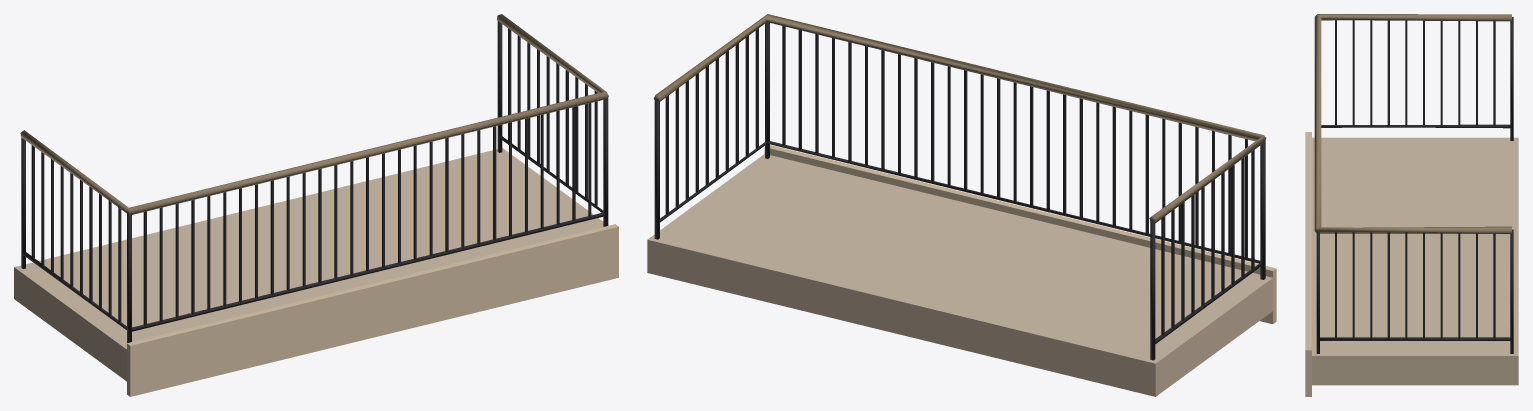
Rendered from city_balcony_res_4.glb.
3 views of the same model, side by side, from view 1: azimuth 30°, elevation 25°; view 2: azimuth 150°, elevation 25°; view 3: azimuth 270°, elevation 25° (orthographic). The views are drawn at different scales.
Visible parts, largest first — view 1: CityBalconyRes4_Slab, CityBalconyRes4_Fascia, CityBalconyRes4_Handrail, CityBalconyRes4_MidRail, CityBalconyRes4_Post2, CityBalconyRes4_Post3, CityBalconyRes4_Post1, CityBalconyRes4_Post0; view 2: CityBalconyRes4_Slab, CityBalconyRes4_Handrail, CityBalconyRes4_Fascia, CityBalconyRes4_MidRail, CityBalconyRes4_Post3, CityBalconyRes4_Post0, CityBalconyRes4_Post1, CityBalconyRes4_Post2; view 3: CityBalconyRes4_Slab, CityBalconyRes4_Handrail, CityBalconyRes4_Fascia, CityBalconyRes4_MidRail, CityBalconyRes4_Post2, CityBalconyRes4_Post3, CityBalconyRes4_Post0, CityBalconyRes4_Bal2_2, CityBalconyRes4_Bal2_3, CityBalconyRes4_Bal2_4, CityBalconyRes4_Bal0_8, CityBalconyRes4_Bal0_9 (+15 smaller).
Boxes of the visible parts, x1=… form: CityBalconyRes4_Slab: x1=14, y1=148, x2=603, y2=381; CityBalconyRes4_Fascia: x1=127, y1=224, x2=618, y2=396; CityBalconyRes4_Handrail: x1=20, y1=14, x2=608, y2=214; CityBalconyRes4_MidRail: x1=23, y1=135, x2=606, y2=331; CityBalconyRes4_Post2: x1=603, y1=98, x2=608, y2=226; CityBalconyRes4_Post3: x1=497, y1=21, x2=502, y2=152; CityBalconyRes4_Post1: x1=127, y1=211, x2=131, y2=342; CityBalconyRes4_Post0: x1=21, y1=138, x2=25, y2=268; CityBalconyRes4_Slab: x1=647, y1=154, x2=1272, y2=396; CityBalconyRes4_Handrail: x1=653, y1=14, x2=1266, y2=223; CityBalconyRes4_Fascia: x1=764, y1=145, x2=1276, y2=324; CityBalconyRes4_MidRail: x1=659, y1=141, x2=1262, y2=343; CityBalconyRes4_Post3: x1=654, y1=98, x2=659, y2=239; CityBalconyRes4_Post0: x1=1150, y1=219, x2=1155, y2=360; CityBalconyRes4_Post1: x1=1260, y1=139, x2=1265, y2=279; CityBalconyRes4_Post2: x1=765, y1=22, x2=769, y2=158; CityBalconyRes4_Slab: x1=1312, y1=137, x2=1518, y2=385; CityBalconyRes4_Handrail: x1=1314, y1=14, x2=1511, y2=233; CityBalconyRes4_Fascia: x1=1305, y1=132, x2=1311, y2=396; CityBalconyRes4_MidRail: x1=1320, y1=124, x2=1511, y2=340; CityBalconyRes4_Post2: x1=1316, y1=231, x2=1319, y2=353; CityBalconyRes4_Post3: x1=1510, y1=229, x2=1513, y2=353; CityBalconyRes4_Post0: x1=1510, y1=17, x2=1513, y2=140; CityBalconyRes4_Bal2_2: x1=1352, y1=232, x2=1354, y2=339; CityBalconyRes4_Bal2_3: x1=1370, y1=232, x2=1372, y2=339; CityBalconyRes4_Bal2_4: x1=1387, y1=232, x2=1389, y2=339; CityBalconyRes4_Bal0_8: x1=1370, y1=20, x2=1372, y2=126; CityBalconyRes4_Bal0_9: x1=1352, y1=20, x2=1354, y2=126.
Bounding box in the file's own units: 4 × 1.43 × 1.65.
